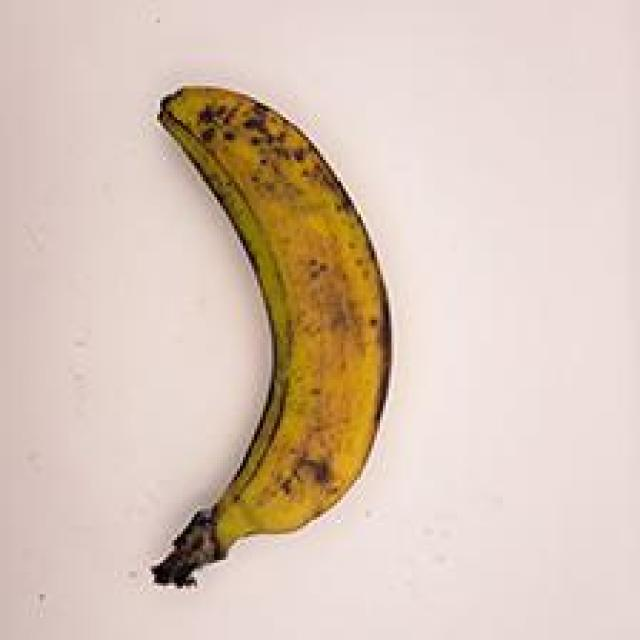Overripe: (96, 51, 434, 589)
